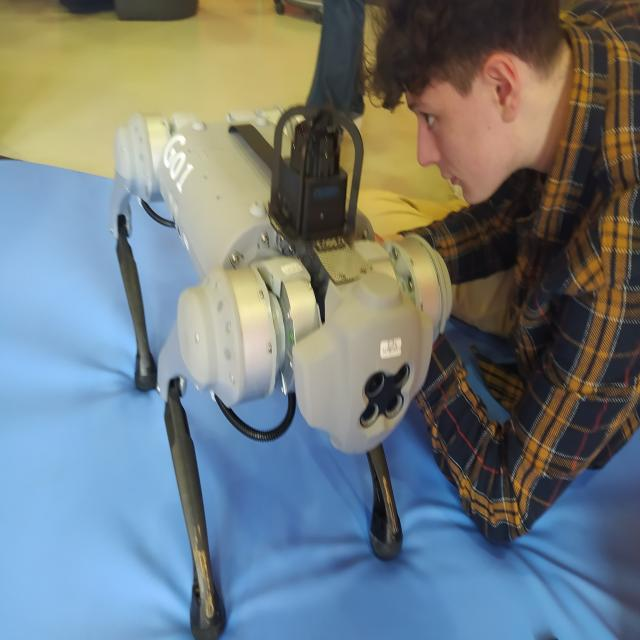unitree-go1-robot: (95, 82, 458, 640)
